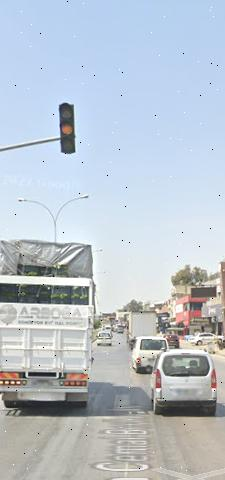yellowlight: (58, 103, 75, 153)
